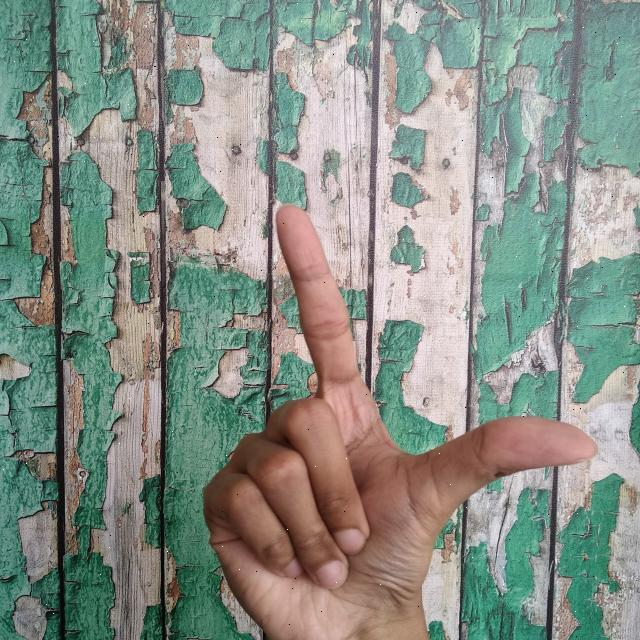L: (195, 196, 610, 640)
